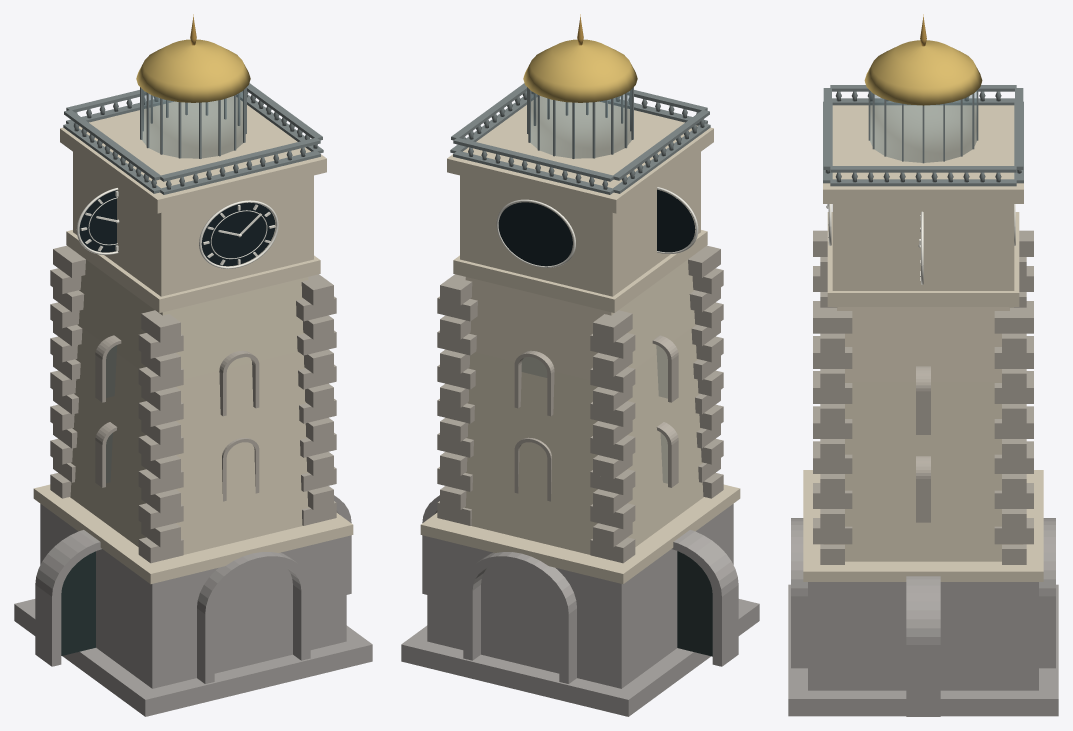
Rendered from clock-tower.glb.
The picture shows the model from 3 angles, left to right: view 1: azimuth 30°, elevation 25°; view 2: azimuth 150°, elevation 25°; view 3: azimuth 270°, elevation 25°; orthographic projection. The views are drawn at different scales.
Visible parts, largest first — view 1: 02 Tapered ashlar masonry tower shaft / Sandstone, 01 Arched four-way rusticated base / Rusticated Granite, 03 Quoin stones and arched lancet windows / Quoin Stone, 04 Four-sided clock chamber / Sandstone, 05 Lighthouse lantern room, gallery and brass dome / Sandsto, 05 Lighthouse lantern room, gallery and brass dome / Metal, 01 Arched four-way rusticated base / Sandstone, 05 Lighthouse lantern room, gallery and brass dome / Lightho, 04 Four-sided clock chamber / Sign ink, 05 Lighthouse lantern room, gallery and brass dome / Glass l, 01 Arched four-way rusticated base / Shadow, 05 Lighthouse lantern room, gallery and brass dome / Metal.0 (+3 smaller); view 2: 02 Tapered ashlar masonry tower shaft / Sandstone, 01 Arched four-way rusticated base / Rusticated Granite, 03 Quoin stones and arched lancet windows / Quoin Stone, 04 Four-sided clock chamber / Sandstone, 05 Lighthouse lantern room, gallery and brass dome / Sandsto, 05 Lighthouse lantern room, gallery and brass dome / Metal, 01 Arched four-way rusticated base / Sandstone, 05 Lighthouse lantern room, gallery and brass dome / Lightho, 04 Four-sided clock chamber / Sign ink, 05 Lighthouse lantern room, gallery and brass dome / Glass l, 01 Arched four-way rusticated base / Shadow, 05 Lighthouse lantern room, gallery and brass dome / Metal.0 (+2 smaller); view 3: 01 Arched four-way rusticated base / Rusticated Granite, 02 Tapered ashlar masonry tower shaft / Sandstone, 03 Quoin stones and arched lancet windows / Quoin Stone, 04 Four-sided clock chamber / Sandstone, 05 Lighthouse lantern room, gallery and brass dome / Sandsto, 05 Lighthouse lantern room, gallery and brass dome / Metal, 01 Arched four-way rusticated base / Sandstone, 05 Lighthouse lantern room, gallery and brass dome / Lightho, 05 Lighthouse lantern room, gallery and brass dome / Glass l, 05 Lighthouse lantern room, gallery and brass dome / Metal.0, 04 Four-sided clock chamber / Ivory.
Boxes of the visible parts, left/top/right/bottom form: 02 Tapered ashlar masonry tower shaft / Sandstone: left=70, top=259, right=309, bottom=554; 01 Arched four-way rusticated base / Rusticated Granite: left=14, top=495, right=372, bottom=716; 03 Quoin stones and arched lancet windows / Quoin Stone: left=50, top=245, right=336, bottom=563; 04 Four-sided clock chamber / Sandstone: left=66, top=152, right=320, bottom=312; 05 Lighthouse lantern room, gallery and brass dome / Sandsto: left=60, top=96, right=326, bottom=213; 05 Lighthouse lantern room, gallery and brass dome / Metal: left=63, top=83, right=323, bottom=194; 01 Arched four-way rusticated base / Sandstone: left=33, top=484, right=353, bottom=583; 05 Lighthouse lantern room, gallery and brass dome / Lightho: left=136, top=39, right=250, bottom=102; 04 Four-sided clock chamber / Sign ink: left=79, top=190, right=275, bottom=266; 05 Lighthouse lantern room, gallery and brass dome / Glass l: left=142, top=89, right=243, bottom=158; 01 Arched four-way rusticated base / Shadow: left=61, top=551, right=95, bottom=655; 05 Lighthouse lantern room, gallery and brass dome / Metal.0: left=73, top=91, right=317, bottom=189; 02 Tapered ashlar masonry tower shaft / Sandstone: left=464, top=259, right=703, bottom=554; 01 Arched four-way rusticated base / Rusticated Granite: left=401, top=495, right=759, bottom=716; 03 Quoin stones and arched lancet windows / Quoin Stone: left=437, top=245, right=723, bottom=563; 04 Four-sided clock chamber / Sandstone: left=453, top=152, right=707, bottom=312; 05 Lighthouse lantern room, gallery and brass dome / Sandsto: left=447, top=96, right=713, bottom=213; 05 Lighthouse lantern room, gallery and brass dome / Metal: left=450, top=83, right=710, bottom=194; 01 Arched four-way rusticated base / Sandstone: left=420, top=484, right=740, bottom=583; 05 Lighthouse lantern room, gallery and brass dome / Lightho: left=523, top=39, right=637, bottom=102; 04 Four-sided clock chamber / Sign ink: left=498, top=189, right=695, bottom=266; 05 Lighthouse lantern room, gallery and brass dome / Glass l: left=530, top=89, right=631, bottom=158; 01 Arched four-way rusticated base / Shadow: left=677, top=551, right=712, bottom=656; 05 Lighthouse lantern room, gallery and brass dome / Metal.0: left=462, top=91, right=704, bottom=189; 01 Arched four-way rusticated base / Rusticated Granite: left=788, top=518, right=1058, bottom=716; 02 Tapered ashlar masonry tower shaft / Sandstone: left=824, top=307, right=1022, bottom=561; 03 Quoin stones and arched lancet windows / Quoin Stone: left=813, top=230, right=1033, bottom=564; 04 Four-sided clock chamber / Sandstone: left=827, top=204, right=1019, bottom=306; 05 Lighthouse lantern room, gallery and brass dome / Sandsto: left=823, top=105, right=1023, bottom=203; 05 Lighthouse lantern room, gallery and brass dome / Metal: left=823, top=85, right=1023, bottom=186; 01 Arched four-way rusticated base / Sandstone: left=803, top=470, right=1043, bottom=581; 05 Lighthouse lantern room, gallery and brass dome / Lightho: left=864, top=40, right=982, bottom=105; 05 Lighthouse lantern room, gallery and brass dome / Glass l: left=870, top=91, right=976, bottom=162; 05 Lighthouse lantern room, gallery and brass dome / Metal.0: left=825, top=91, right=1021, bottom=182; 04 Four-sided clock chamber / Ivory: left=826, top=204, right=1015, bottom=284.
Size of the model in its own units: 14.5 by 29 by 11.
